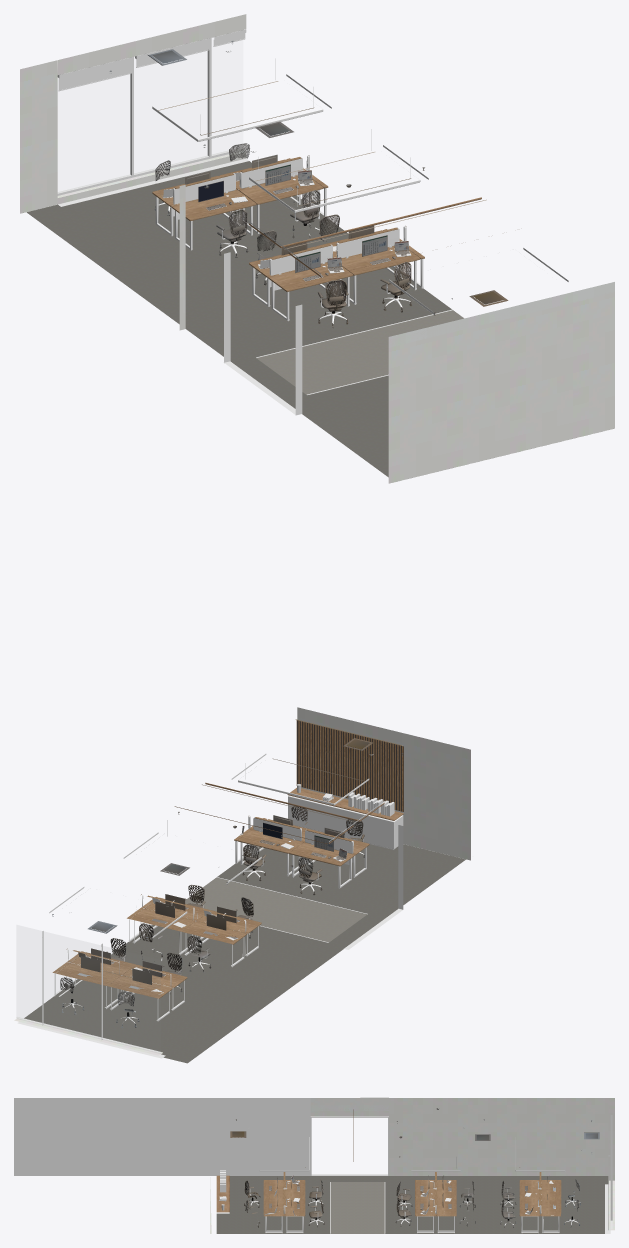
The model's file is z-open_w-lite.light.2a9f9dc6.glb.
3 views of the same model, one above another, from view 1: azimuth 30°, elevation 25°; view 2: azimuth 150°, elevation 25°; view 3: azimuth 270°, elevation 25° (orthographic). The views are drawn at different scales.
Visible parts, largest first — view 1: open_w_plaster, open_w_carpet, open_w_satin, open_w_fx, open_w_oak, open_w_emit, open_w_metal_lit; view 2: open_w_carpet, open_w_plaster, open_w_satin, open_w_oak, open_w_fx, open_w_proxy_slat, open_w_metal_lit, open_w_emit; view 3: open_w_satin, open_w_plaster, open_w_carpet, open_w_oak, open_w_fx, open_w_metal_lit.
Boxes of the visible parts, bbox=[...] form: open_w_plaster: bbox=[20, 14, 614, 483]; open_w_carpet: bbox=[27, 161, 463, 477]; open_w_satin: bbox=[57, 29, 568, 415]; open_w_fx: bbox=[109, 41, 508, 327]; open_w_oak: bbox=[152, 155, 481, 291]; open_w_emit: bbox=[158, 81, 486, 272]; open_w_metal_lit: bbox=[61, 51, 411, 414]; open_w_carpet: bbox=[24, 844, 465, 1063]; open_w_plaster: bbox=[14, 707, 470, 1055]; open_w_satin: bbox=[16, 754, 403, 1058]; open_w_oak: bbox=[52, 782, 403, 998]; open_w_fx: bbox=[52, 738, 403, 1027]; open_w_proxy_slat: bbox=[296, 720, 403, 811]; open_w_metal_lit: bbox=[57, 826, 403, 1055]; open_w_emit: bbox=[179, 719, 402, 922]; open_w_satin: bbox=[14, 1098, 612, 1233]; open_w_plaster: bbox=[210, 1097, 614, 1233]; open_w_carpet: bbox=[216, 1176, 608, 1233]; open_w_oak: bbox=[216, 1109, 561, 1216]; open_w_fx: bbox=[230, 1108, 599, 1227]; open_w_metal_lit: bbox=[248, 1174, 605, 1233].
Bounding box in the file's own units: 5.4 × 3.35 × 23.
Materials: 10 (6 with a texture image).
